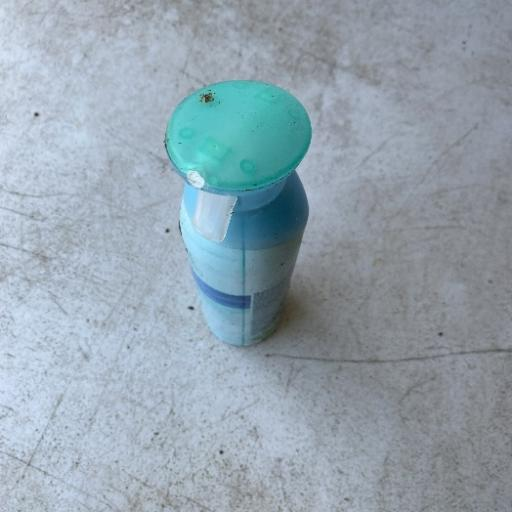Metal: (162, 77, 314, 348)
